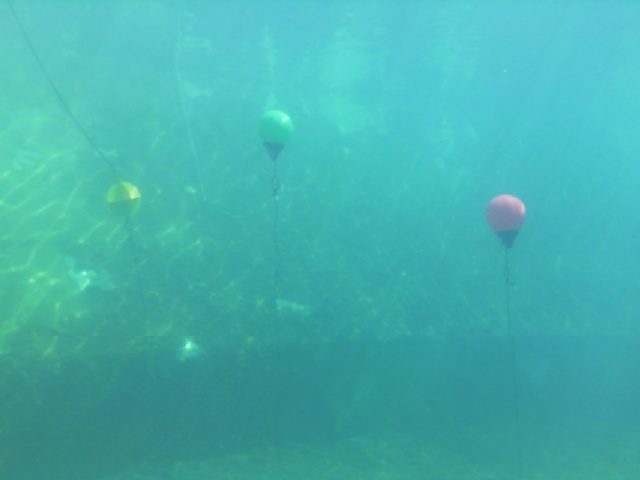buoy_green: (255, 109, 295, 162)
buoy_red: (484, 193, 531, 253)
buoy_yellow: (105, 180, 143, 223)
